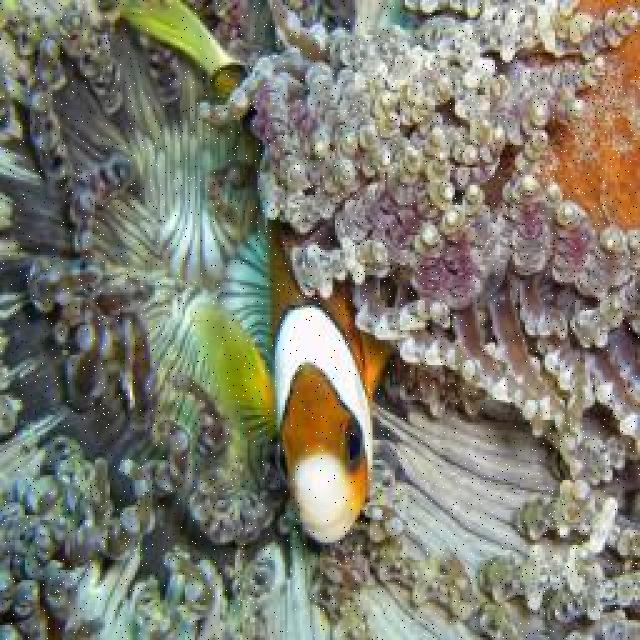fish: (194, 156, 395, 548)
reefs: (252, 2, 638, 482)
